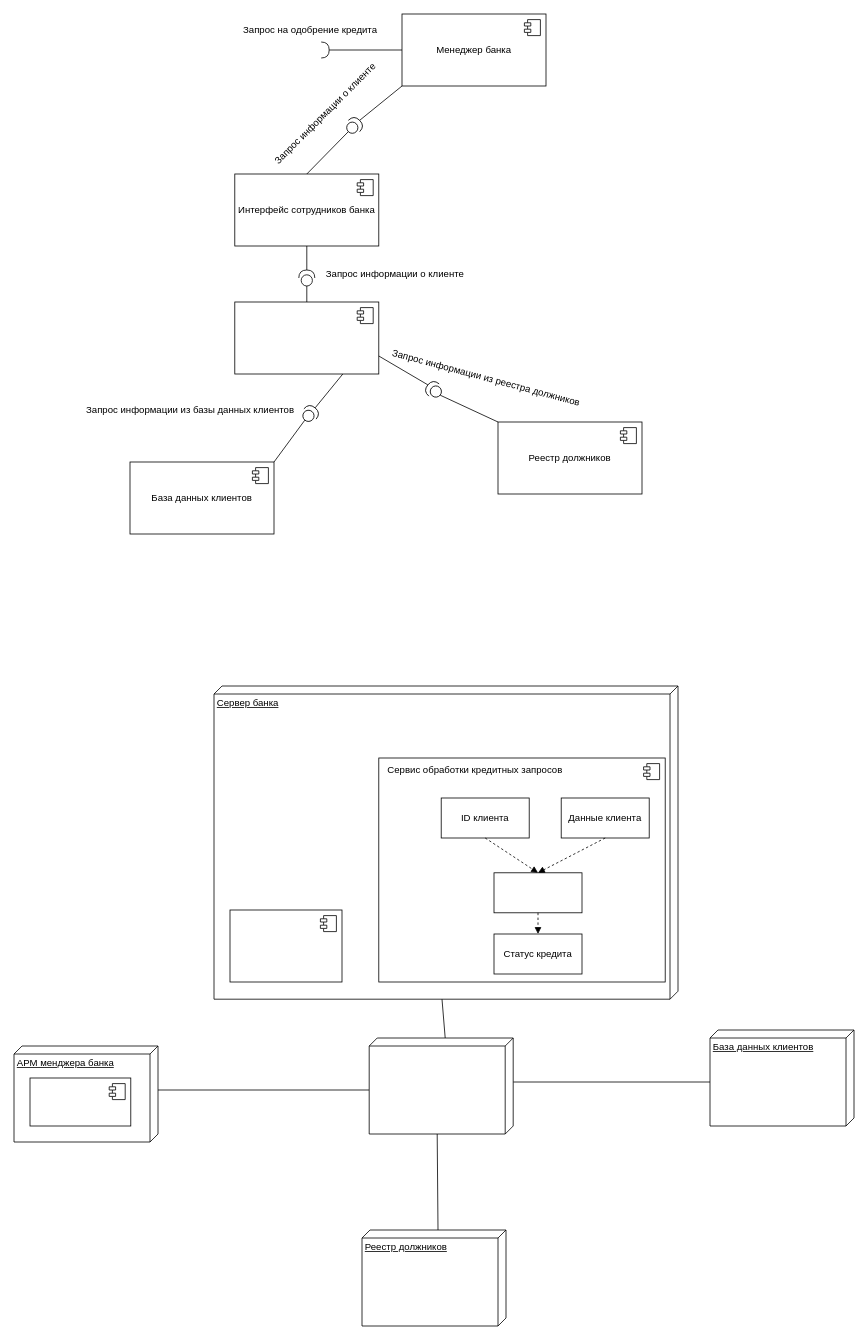
The diagram is 868 pixels wide and 1340 high, and some of its shapes have lost their labels. The centre of each missing label's shape, as x and y in pixels:
"Внутренняя система банка" goes at point 306,337.
"Интерфейс" goes at point 80,1101.
"КЛВС" goes at point 440,1085.
"Общая БД" goes at point 285,945.
"Решение по одбрению кредита" goes at point 537,892.
